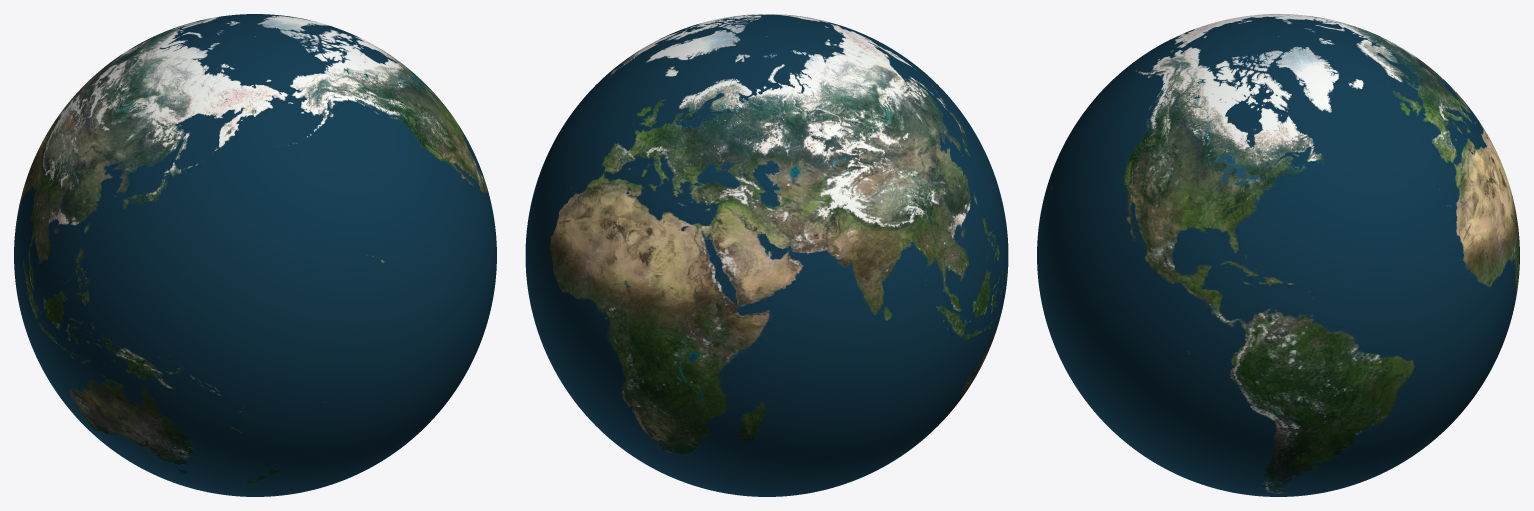
Rendered from earth.obj.
3 views of the same model, side by side, from view 1: azimuth 30°, elevation 25°; view 2: azimuth 150°, elevation 25°; view 3: azimuth 270°, elevation 25° (orthographic).
Parts seen in each view (by area): view 1: Sphere001; view 2: Sphere001; view 3: Sphere001.
Boxes of the visible parts, bbox=[...] form: Sphere001: bbox=[14, 14, 496, 496]; Sphere001: bbox=[525, 14, 1008, 496]; Sphere001: bbox=[1037, 14, 1519, 496].
Bounding box in the file's own units: 117 × 117 × 117.
1 material, 1 textured.
